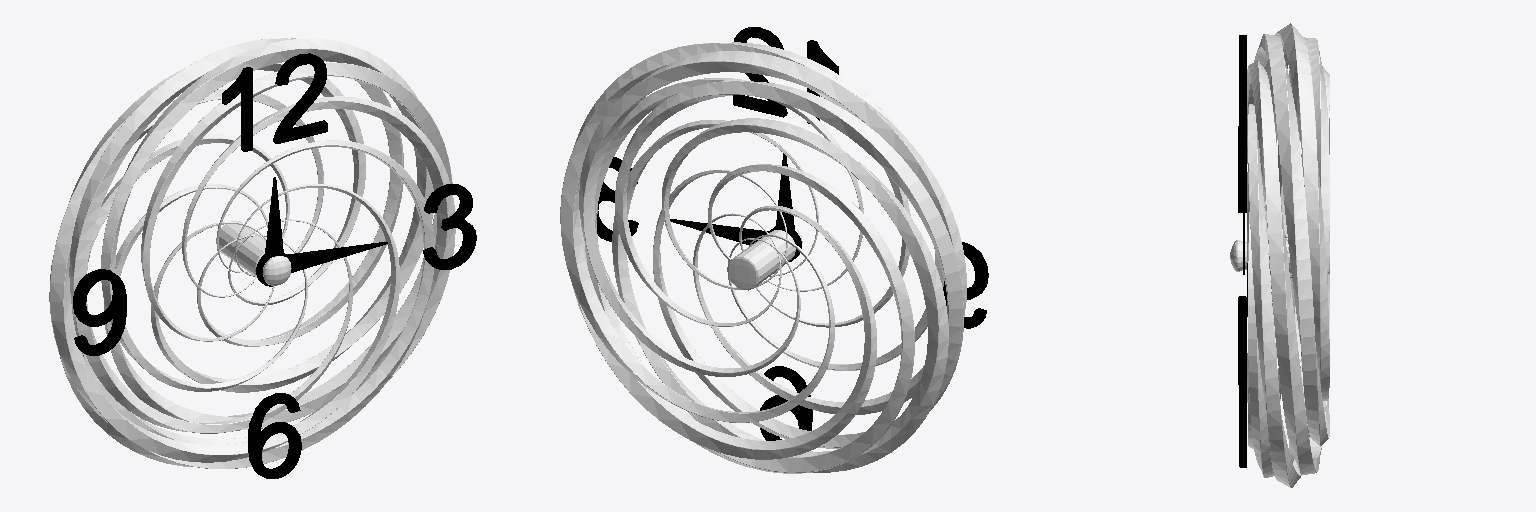
The model's file is clock02_DEFAULT.obj.
The picture shows the model from 3 angles: view 1: azimuth 30°, elevation 25°; view 2: azimuth 150°, elevation 25°; view 3: azimuth 270°, elevation 25°; orthographic projection.
Visible parts, largest first — view 1: clock02, clock02_digits, clock02_dial, clock02_bighand, clock02_littlehand; view 2: clock02, clock02_digits, clock02_dial, clock02_bighand, clock02_littlehand; view 3: clock02, clock02_digits.
Boxes of the visible parts, x1,y1,x2,y2 form: clock02: [49, 38, 455, 468]; clock02_digits: [73, 53, 476, 478]; clock02_dial: [216, 221, 291, 285]; clock02_bighand: [256, 242, 387, 283]; clock02_littlehand: [257, 177, 290, 286]; clock02: [560, 42, 966, 473]; clock02_digits: [597, 27, 988, 440]; clock02_dial: [727, 229, 802, 290]; clock02_bighand: [670, 219, 799, 261]; clock02_littlehand: [774, 153, 801, 258]; clock02: [1247, 23, 1329, 487]; clock02_digits: [1238, 35, 1246, 467].
Size of the model in its own units: 15.94 by 15.83 by 3.46.